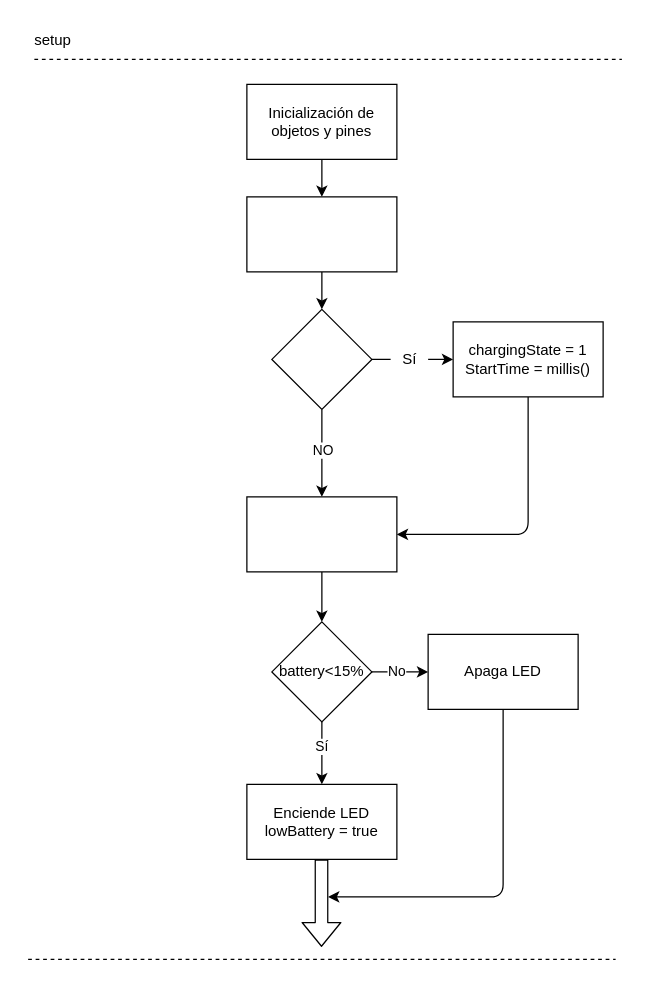
This 645x983 diagram has some shape labels left out. The shapes that lost their labels are listed below. From the top down, each one's box as (x1, y1, x2, y2) in pixels, then its label:
(246, 196, 397, 272): getLimits()
(271, 308, 372, 409): Cargando
(246, 496, 397, 572): getBattery()
